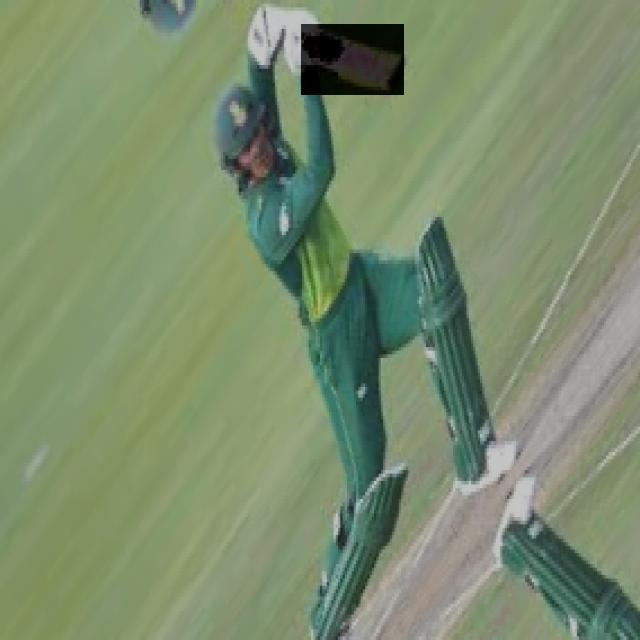bat: (301, 25, 405, 97)
toe: (392, 61, 402, 94)
